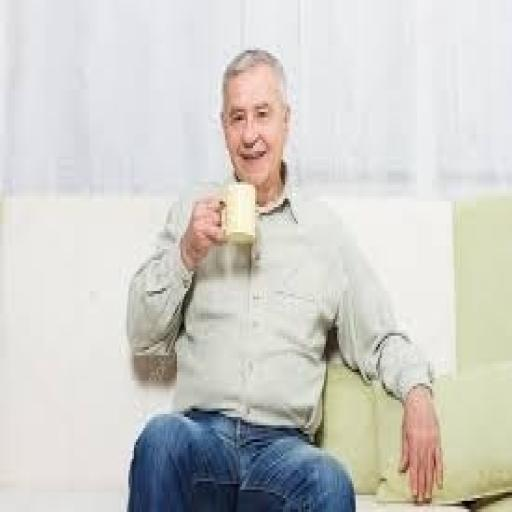drinking: (218, 179, 255, 243)
